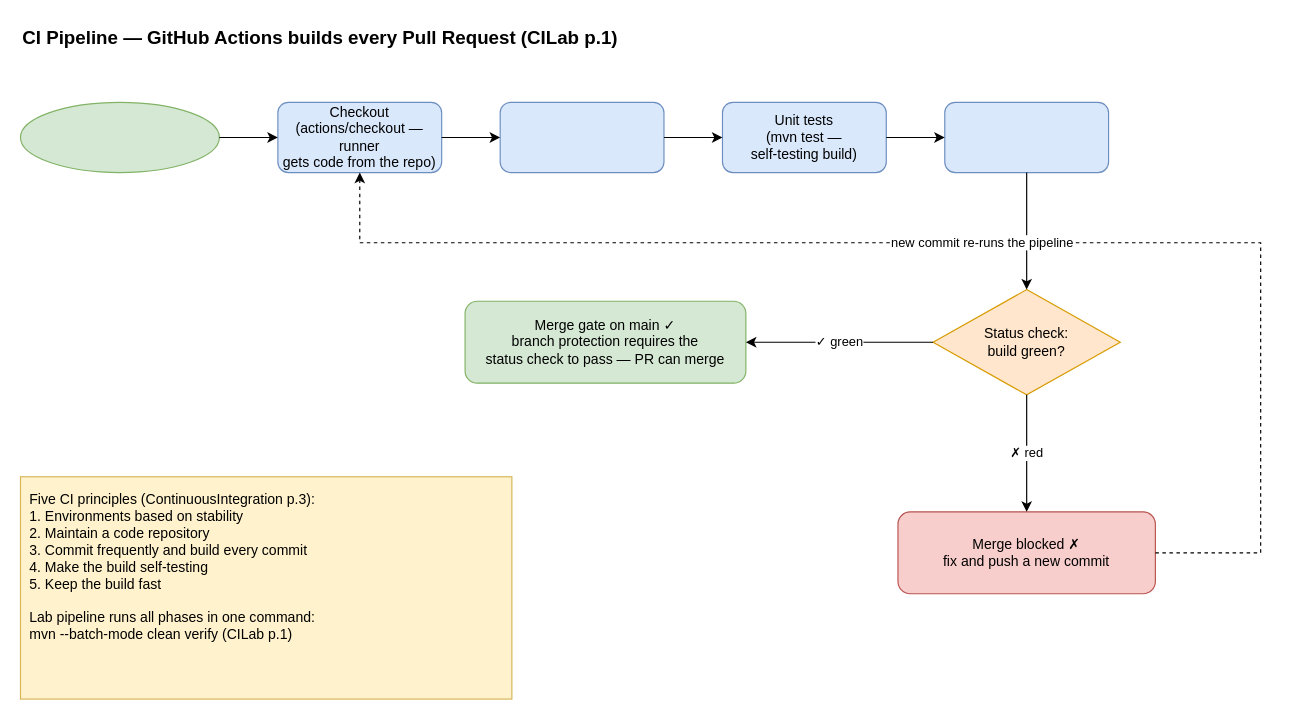
Image size: 1291x720. Some labels were removed from this diagram. The box of each missing label's shape, as (x1, y1, x2, y2) in pixels:
Build (mvn compile): (499, 101, 664, 173)
Package (mvn package): (944, 101, 1109, 173)
Pull Request opened (trigger: on: pull_request): (19, 101, 219, 173)
